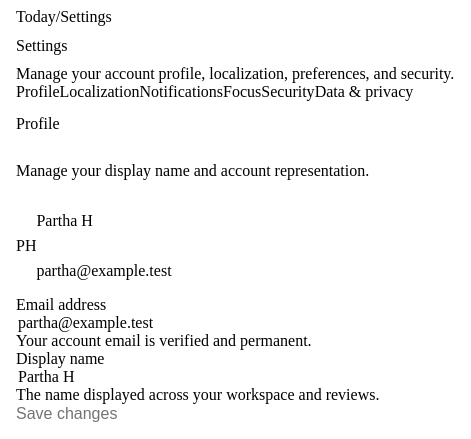
SettingsScreen › renders custom securityPanel and dataPanel slots when provided
Click the tab "Security": (288, 92) [261,83,315,101]
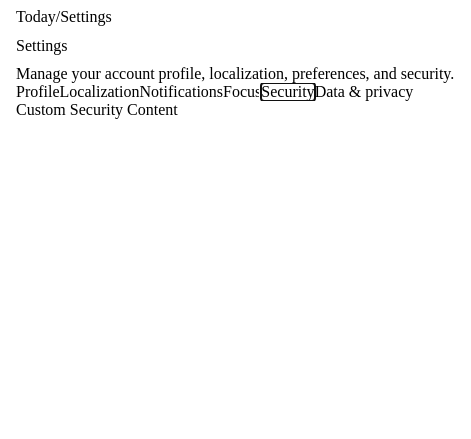
Now the text "Custom Security Content" is shown, box [16,101,178,118]
Click the tab "Data & privacy": (364, 92) [315,83,413,101]
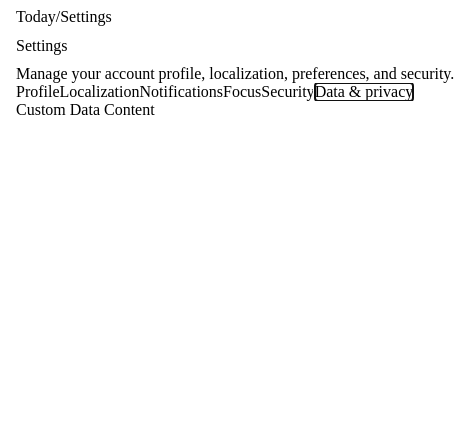
Now the text "Custom Data Content" is shown, box [16,101,155,118]
